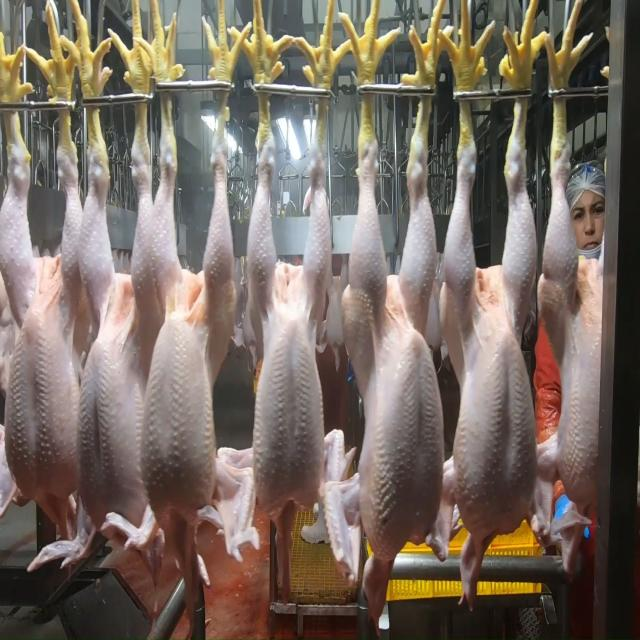chicken: (340, 136, 452, 569), (147, 96, 239, 526), (451, 123, 538, 541), (0, 107, 84, 507), (249, 127, 334, 521), (79, 107, 155, 534), (542, 128, 606, 558)
